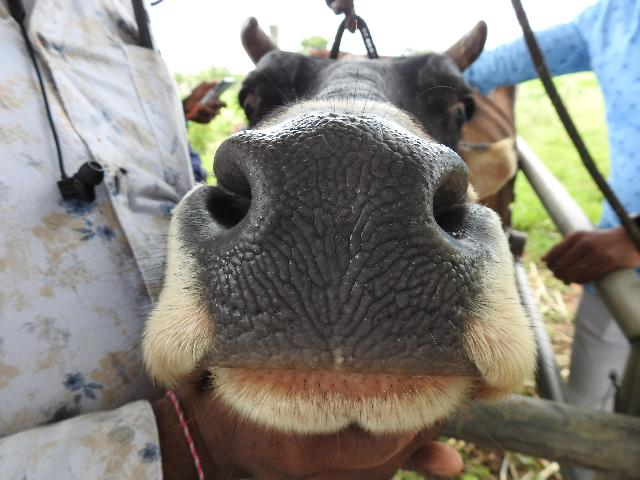Muzzle: (232, 135, 436, 361)
